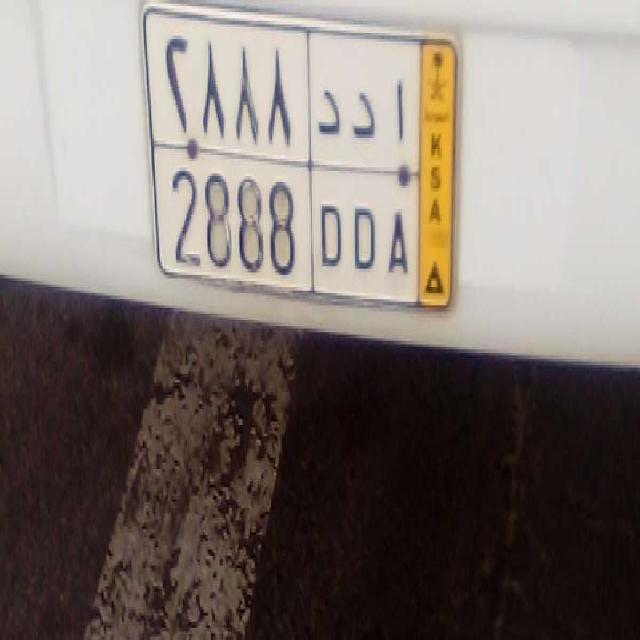license_plate: (153, 142, 419, 314)
